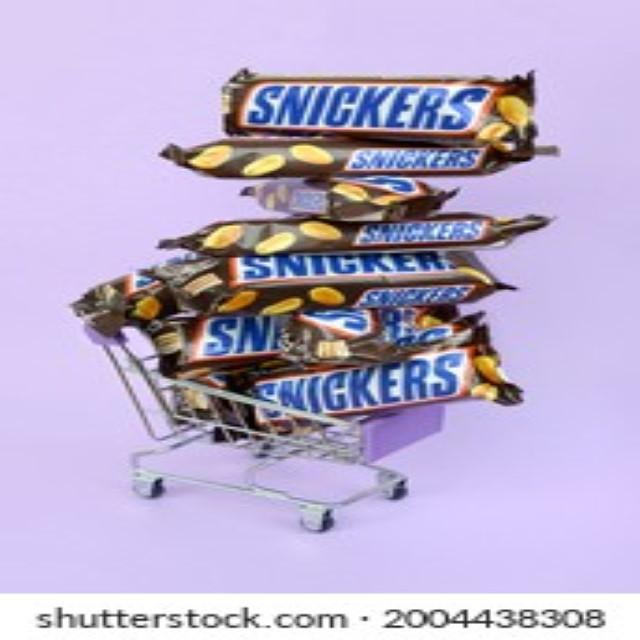snickers_chocolate: (226, 62, 536, 143), (227, 363, 545, 425), (225, 228, 513, 287), (185, 310, 520, 350)
